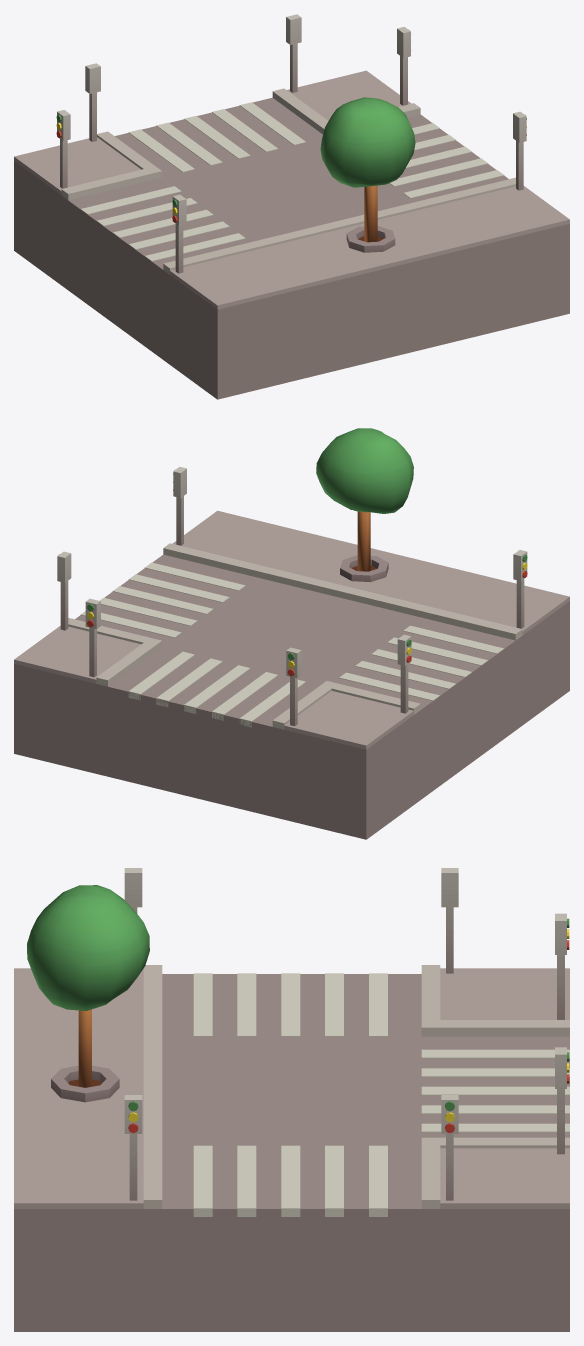
File: Road_T_Crossing.fbx
3 renders of one model, top to bottom at view 1: azimuth 30°, elevation 25°; view 2: azimuth 150°, elevation 25°; view 3: azimuth 270°, elevation 25°, orthographic. The views are drawn at different scales.
Visible parts, largest first — view 1: Road_T_Crossing; view 2: Road_T_Crossing; view 3: Road_T_Crossing.
Boxes of the visible parts, x1,y1,x2,y2 form: Road_T_Crossing: (14, 14, 569, 399); Road_T_Crossing: (14, 428, 569, 839); Road_T_Crossing: (14, 868, 569, 1331).
Bounding box in the file's own units: 400 × 254 × 400.
